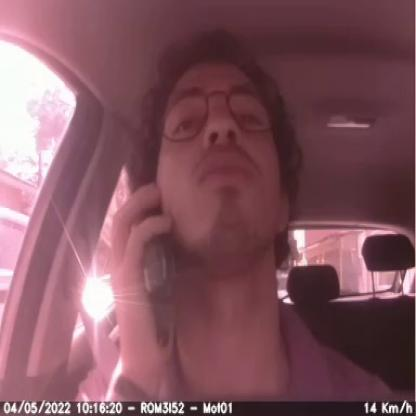phone: (130, 164, 181, 355)
